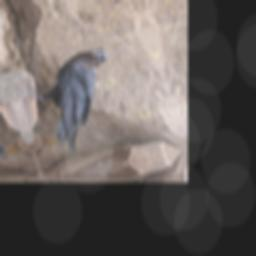Crow: (6, 46, 137, 162)
